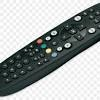remote control: (0, 2, 100, 100)
